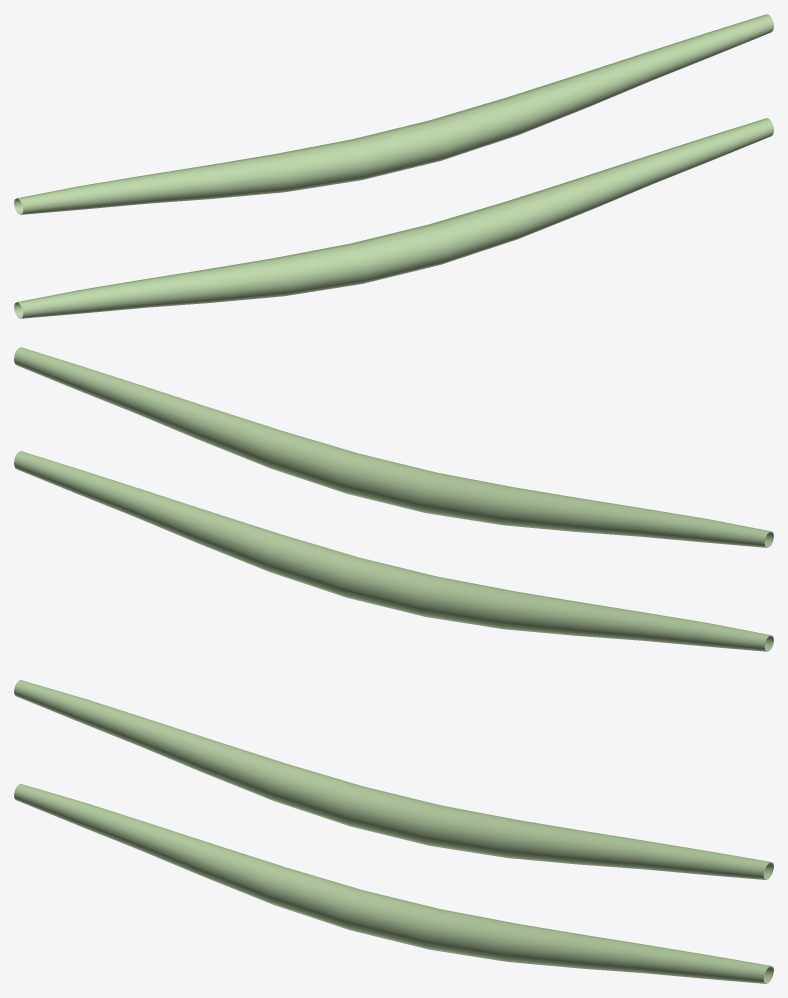
File: Fence_Rail.fbx
3 views of the same model, one above another, from view 1: azimuth 30°, elevation 25°; view 2: azimuth 150°, elevation 25°; view 3: azimuth 330°, elevation 25° (orthographic).
Parts seen in each view (by area): view 1: Fence_Rail; view 2: Fence_Rail; view 3: Fence_Rail.
Part boxes in pixels (x1,y1,x2,y2): Fence_Rail: (14,14,773,318); Fence_Rail: (14,347,773,651); Fence_Rail: (14,680,773,983).
Size of the model in its own units: 272 by 57.58 by 14.38.
